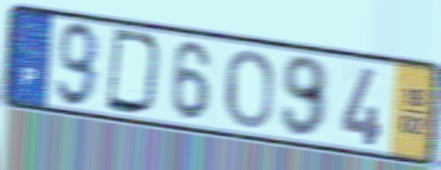4: (337, 62, 385, 151)
6: (169, 39, 216, 123)
9: (277, 53, 334, 140), (54, 19, 104, 111)
D: (103, 25, 165, 118)
O: (223, 47, 275, 130)
